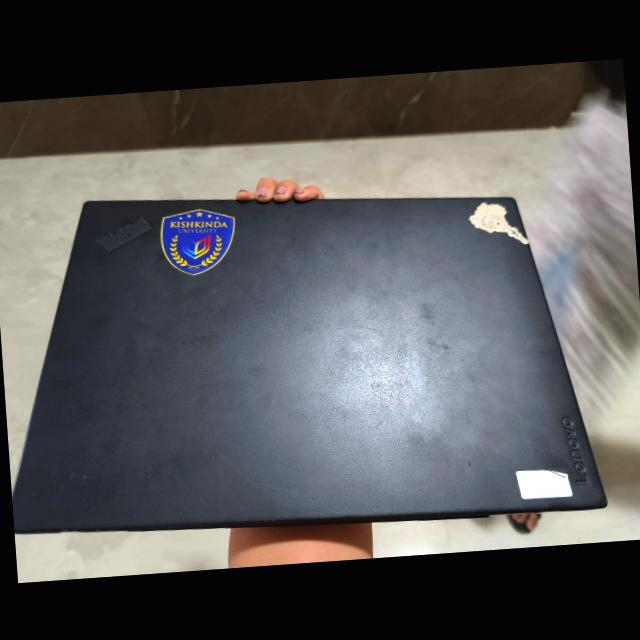laptop: (0, 152, 618, 559)
